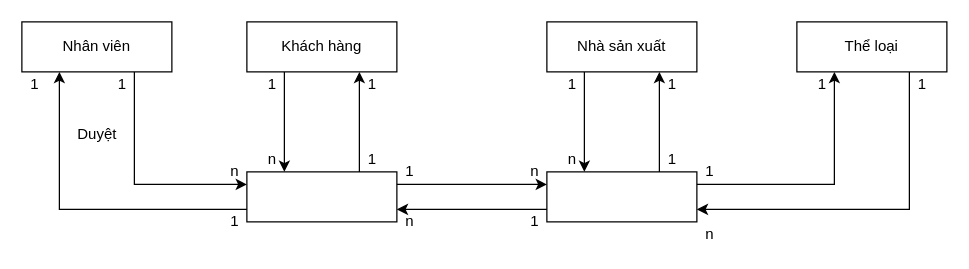
The diagram is 969 pixels wide and 269 high, and some of its shapes have lost their labels. The shapes that lost their labels are listed below. From the top down, each one's centre as x and y in pixels, then its label:
At (x=321, y=196): "Hóa đơn".
At (x=621, y=196): "Sản phẩm".
